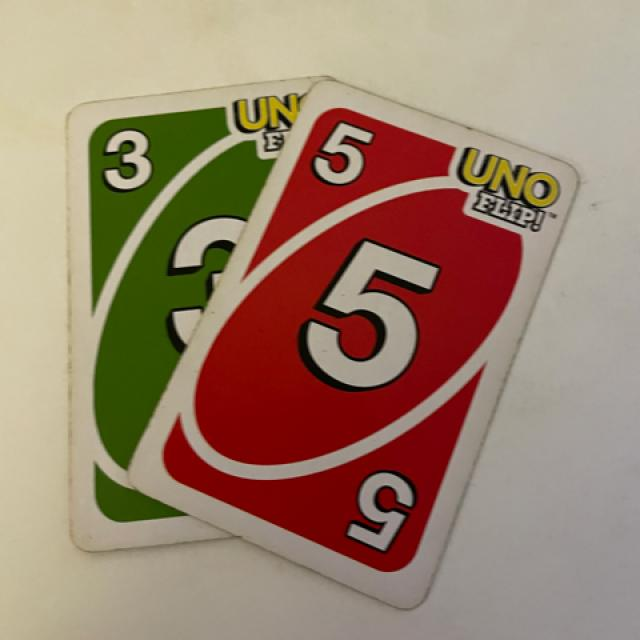lgreen-3: (82, 113, 170, 214)
lred-5: (304, 112, 393, 197)
